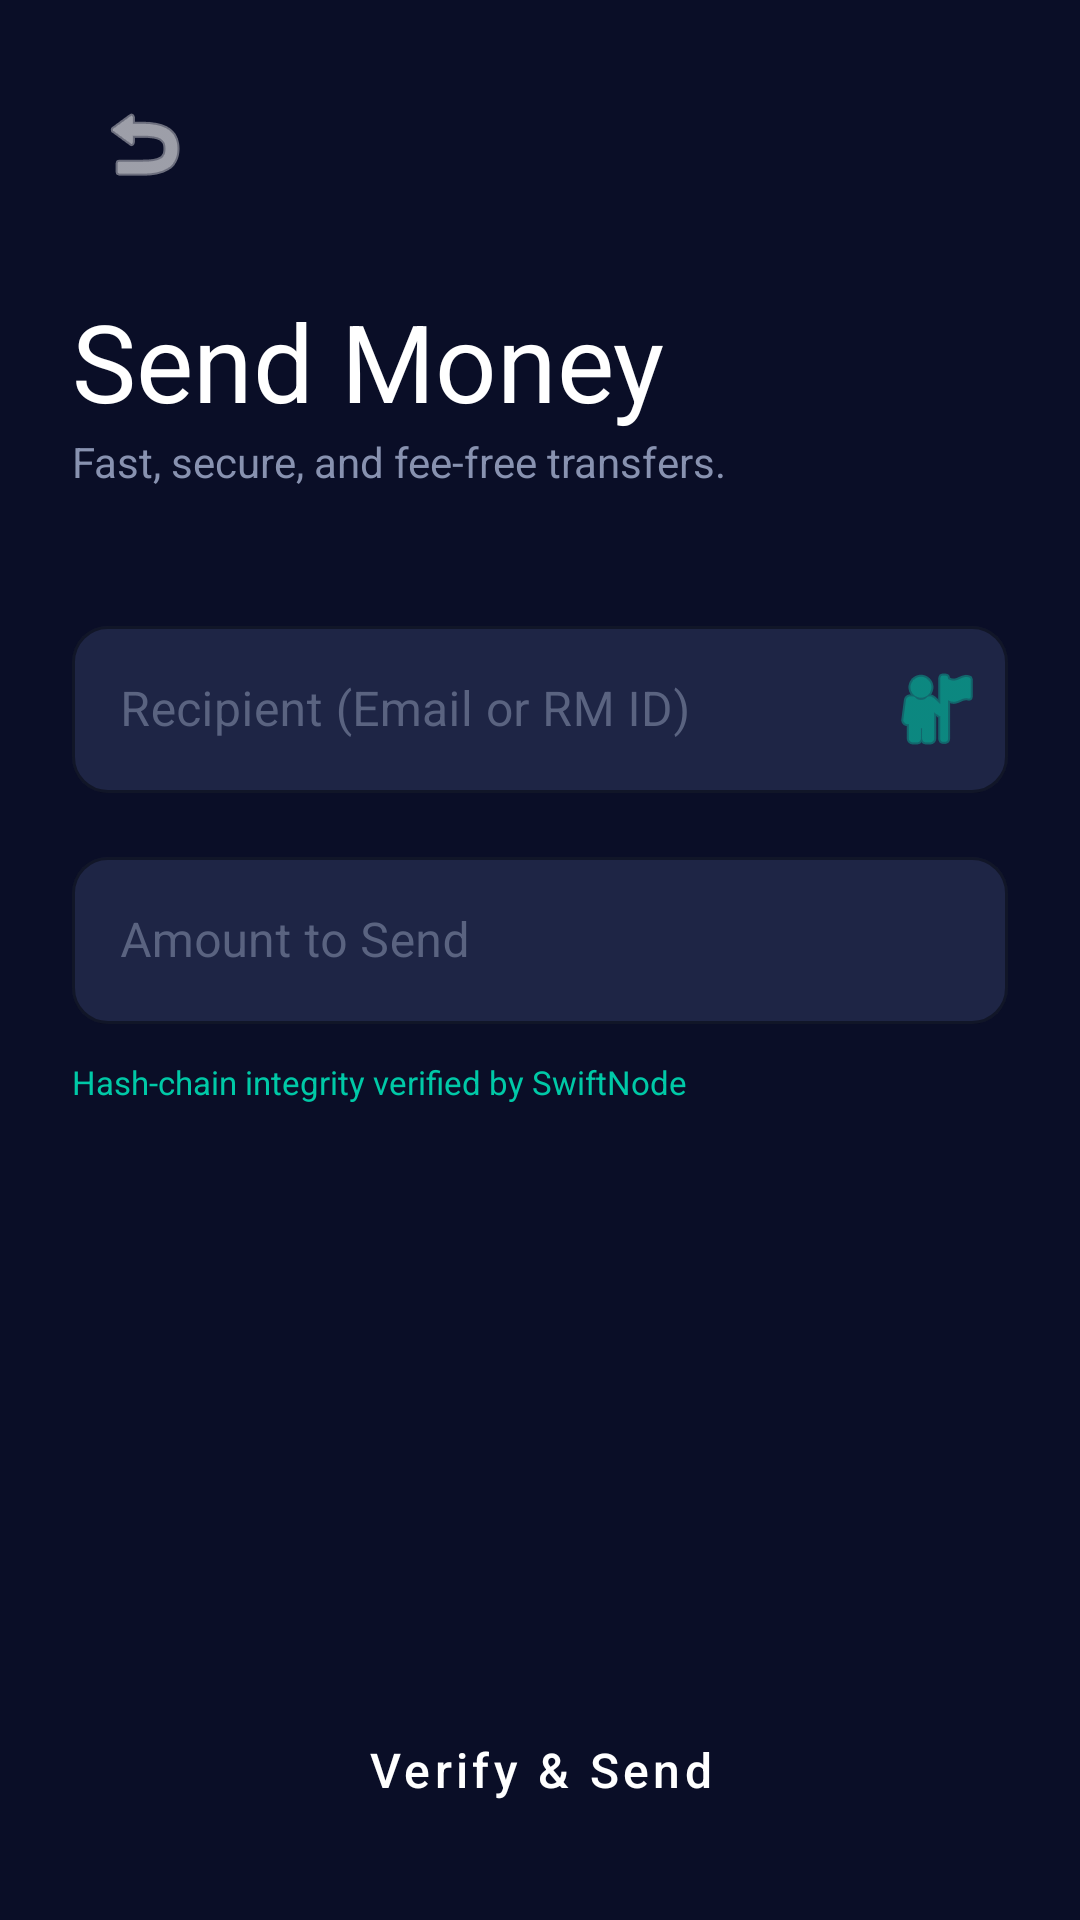

Icons on this 1080×1920 Android screen, each with the point to tap as (x=x, y=y):
Back Arrow: (x=145, y=144)
